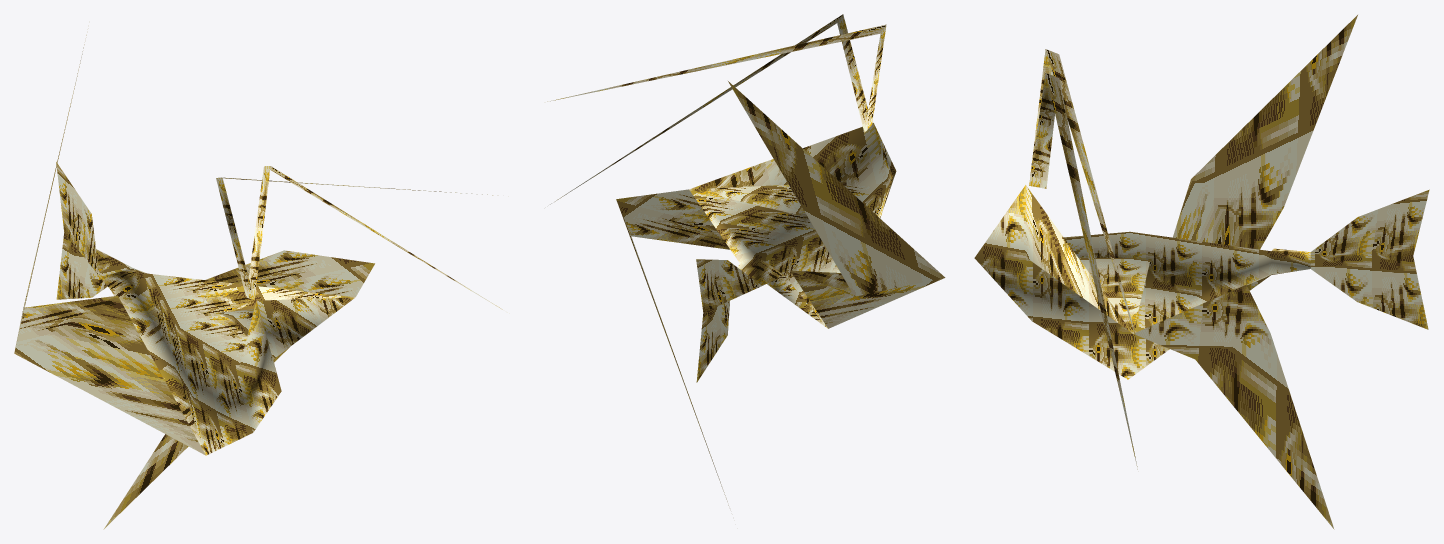
Rendered from 2083_fish13.gltf.
The picture shows the model from 3 angles, left to right: view 1: azimuth 30°, elevation 25°; view 2: azimuth 150°, elevation 25°; view 3: azimuth 270°, elevation 25°; orthographic projection. The views are drawn at different scales.
Parts seen in each view (by area): view 1: 2083_fish13; view 2: 2083_fish13; view 3: 2083_fish13.
Part boxes in pixels (x1,y1,x2,y2): 2083_fish13: [14, 35, 502, 529]; 2083_fish13: [547, 14, 945, 505]; 2083_fish13: [974, 15, 1429, 529].
Size of the model in its own units: 1.22 by 1.25 by 1.
Materials: 1 (1 with a texture image).
